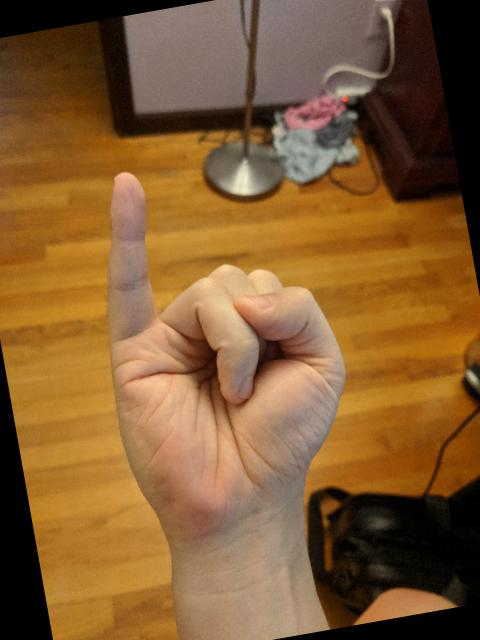I: (67, 132, 377, 559)
